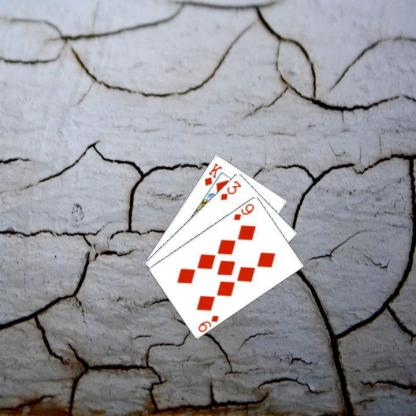3D: (218, 177, 242, 202)
9D: (195, 312, 220, 334), (231, 200, 255, 221)
KD: (202, 160, 224, 186)
